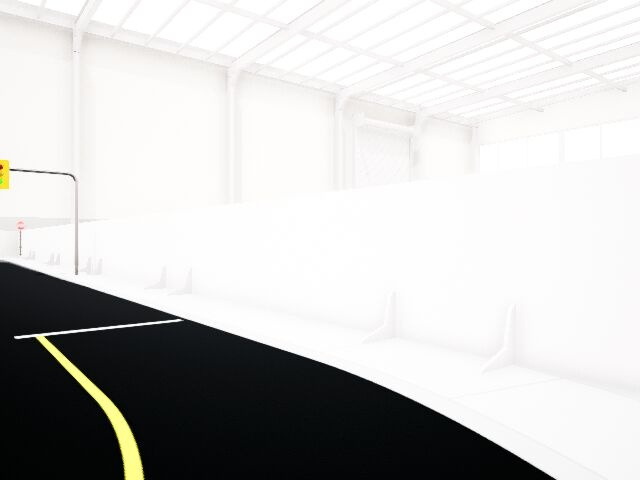green: (1, 161, 9, 189)
